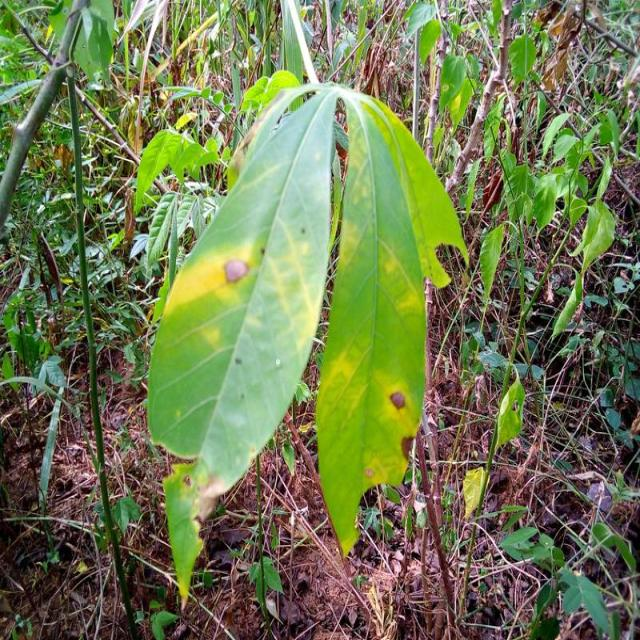cassava leaf: (146, 82, 338, 494), (314, 83, 468, 559)
